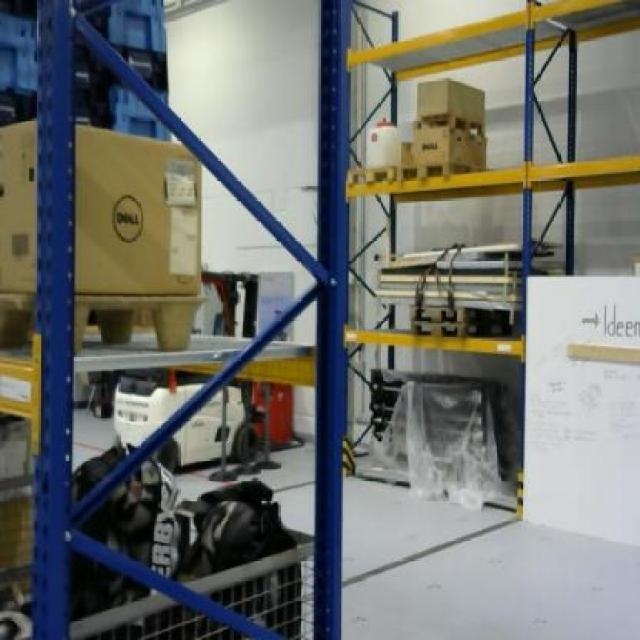box: (0, 120, 200, 294), (414, 77, 488, 125), (412, 126, 486, 165)
